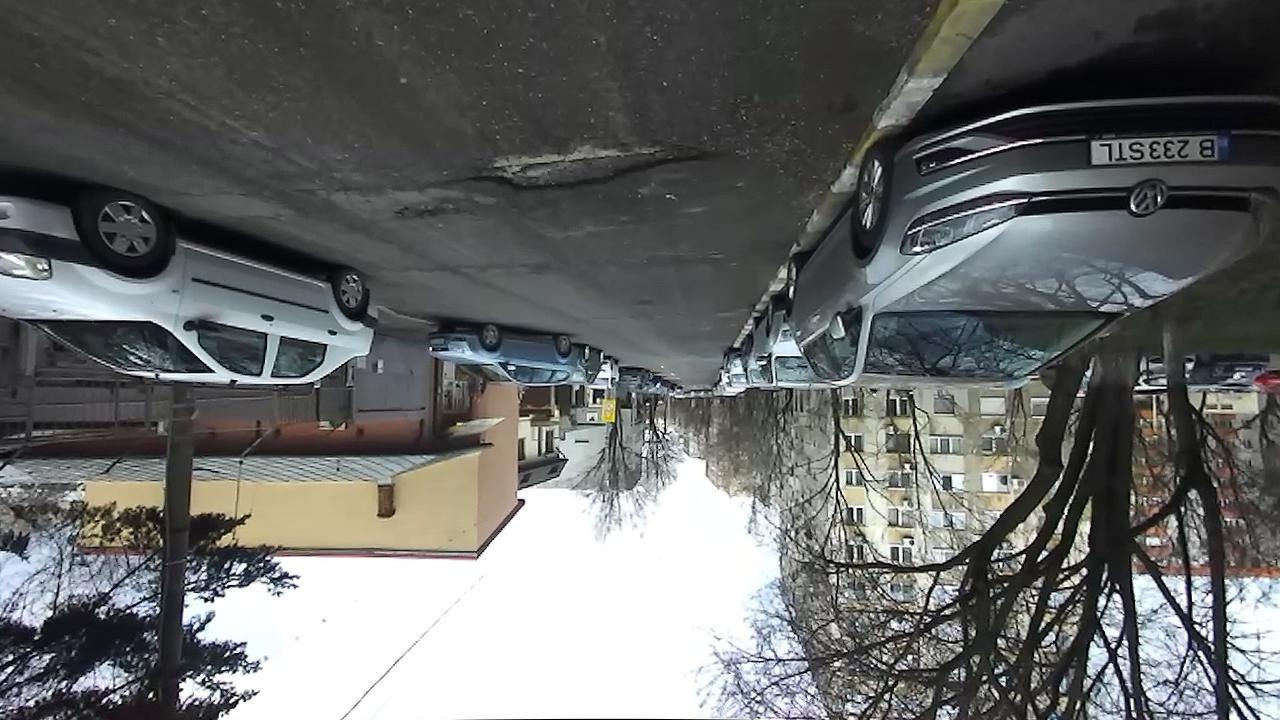pothole: (434, 137, 719, 195), (386, 203, 475, 228)
